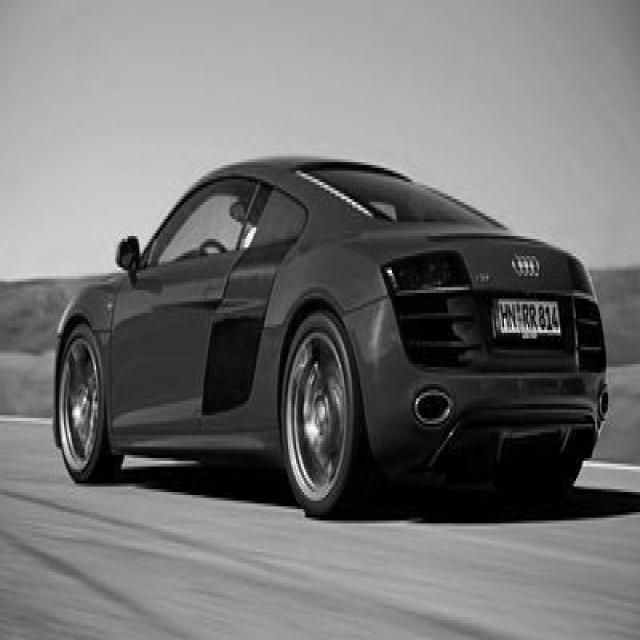car: (51, 153, 608, 518)
plat_license: (492, 290, 560, 341)
